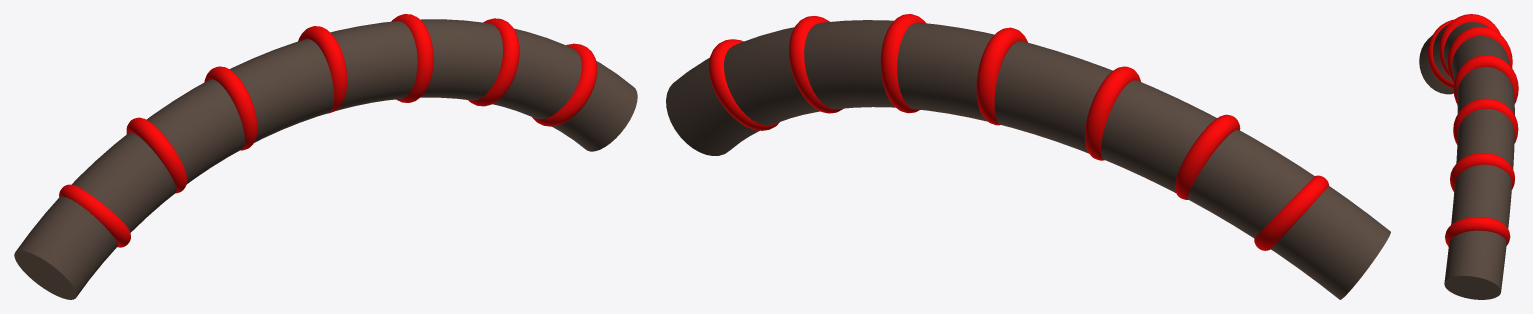
Rendered from Talant.FBX.
3 views of the same model, side by side, from view 1: azimuth 30°, elevation 25°; view 2: azimuth 150°, elevation 25°; view 3: azimuth 270°, elevation 25° (orthographic). The views are drawn at different scales.
Visible parts, largest first — view 1: Line137, Torus002, Torus001, Torus003, Torus005, Torus006, Torus004, Torus007; view 2: Line137, Torus004, Torus005, Torus006, Torus007, Torus003, Torus002, Torus001; view 3: Line137, Torus004, Torus001, Torus002, Torus003, Torus005, Torus006, Torus007.
Boxes of the visible parts, <box> form: Line137: <box>14,19,637,299</box>; Torus002: <box>468,18,519,106</box>; Torus001: <box>532,43,597,126</box>; Torus003: <box>391,14,433,102</box>; Torus005: <box>204,66,257,150</box>; Torus006: <box>126,117,187,193</box>; Torus004: <box>298,26,347,113</box>; Torus007: <box>59,184,130,247</box>; Line137: <box>666,20,1390,299</box>; Torus004: <box>976,27,1027,125</box>; Torus005: <box>1085,66,1140,160</box>; Torus006: <box>1175,114,1240,199</box>; Torus007: <box>1254,175,1329,250</box>; Torus003: <box>880,14,925,113</box>; Torus002: <box>789,16,843,113</box>; Torus001: <box>709,39,779,130</box>; Line137: <box>1419,22,1514,299</box>; Torus004: <box>1453,55,1518,103</box>; Torus001: <box>1445,217,1510,246</box>; Torus002: <box>1450,153,1514,191</box>; Torus003: <box>1453,98,1518,144</box>; Torus005: <box>1447,26,1512,82</box>; Torus006: <box>1439,14,1500,77</box>; Torus007: <box>1428,19,1453,88</box>.
Size of the model in its own units: 20.3 by 5.73 by 3.48.
